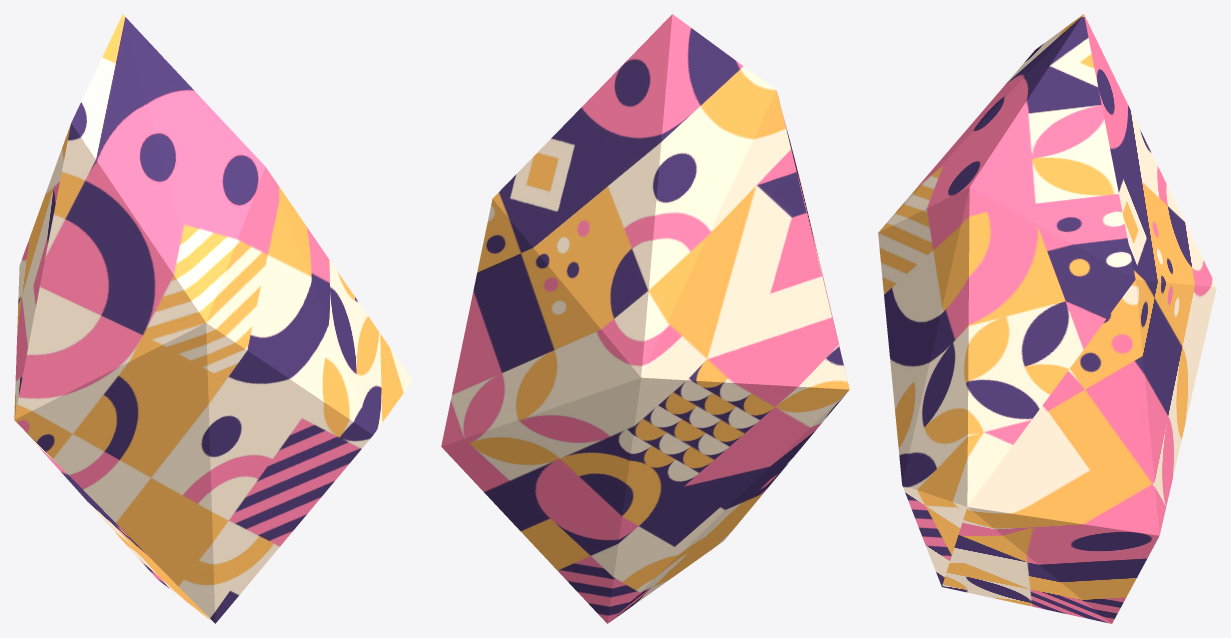
Rendered from crystal-1.gltf.
3 renders of one model, left to right at view 1: azimuth 30°, elevation 25°; view 2: azimuth 150°, elevation 25°; view 3: azimuth 270°, elevation 25°, orthographic. The views are drawn at different scales.
Parts seen in each view (by area): view 1: Crystal; view 2: Crystal; view 3: Crystal.
Part boxes in pixels (x1,y1,x2,y2): Crystal: (14,14,412,623); Crystal: (441,14,849,623); Crystal: (878,14,1216,623).
Bounding box in the file's own units: 0.1001 × 0.1514 × 0.0793.
Materials: 1 (1 with a texture image).
